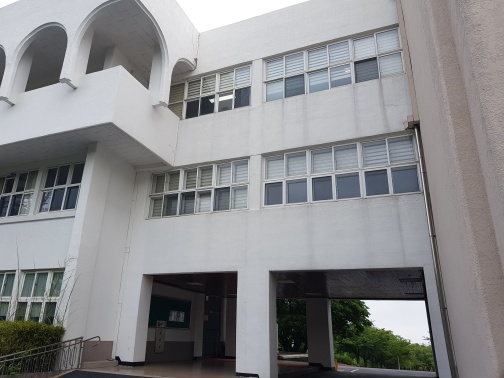Main Building of University: (4, 2, 451, 357)
